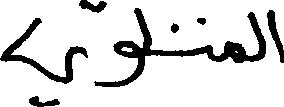X: (0, 0, 85, 106), (95, 0, 142, 91), (249, 7, 263, 66), (271, 5, 283, 67), (144, 14, 151, 70), (228, 36, 240, 67), (206, 40, 212, 65)
